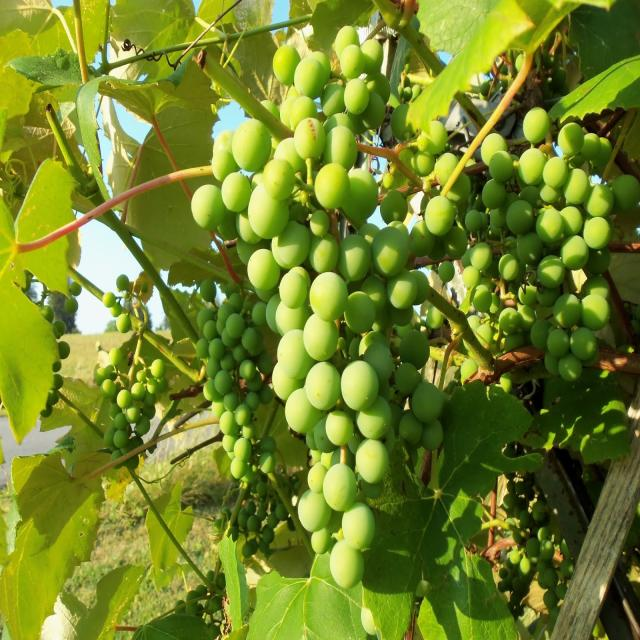grape: (241, 118, 442, 587), (196, 302, 274, 481), (94, 277, 168, 459), (535, 157, 591, 304), (530, 293, 610, 382), (519, 148, 540, 185), (591, 213, 610, 250)
